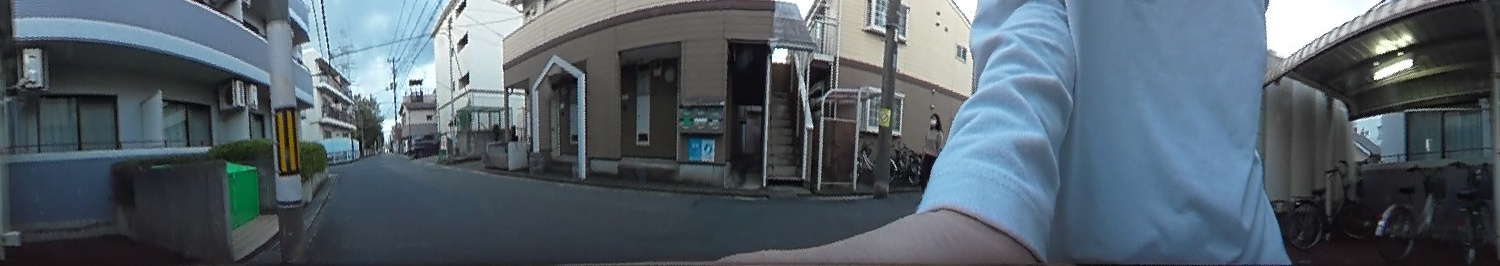person: (916, 111, 944, 190)
